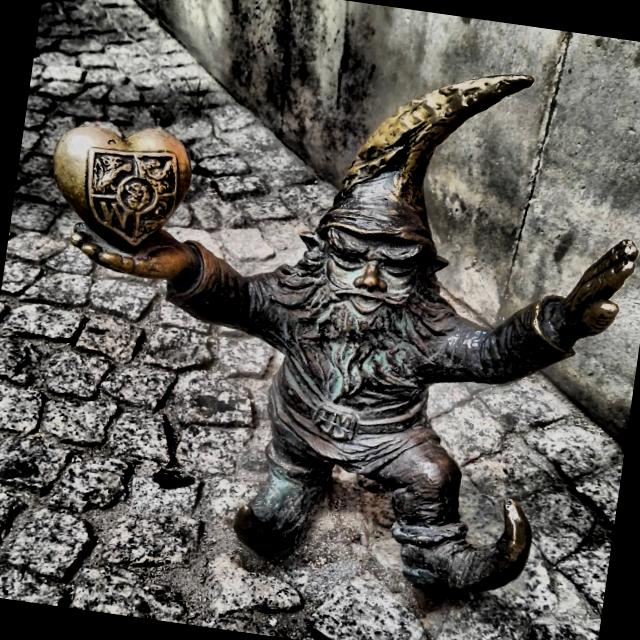WrocLovek: (48, 59, 640, 626)
